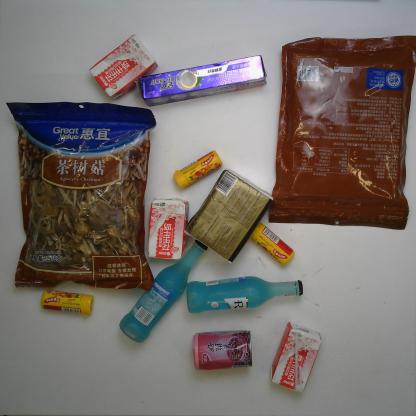Alcohol: (118, 240, 209, 343), (186, 276, 304, 315)
Candy: (172, 149, 224, 189), (250, 222, 295, 266), (40, 288, 96, 319)
Canned Food: (190, 330, 254, 371)
Dried Food: (4, 100, 158, 294), (266, 35, 416, 231)
Milk: (87, 34, 158, 100), (269, 322, 323, 394), (146, 198, 190, 262)
Personal Hygiene: (133, 53, 268, 108)
Tissue: (183, 169, 274, 264)
